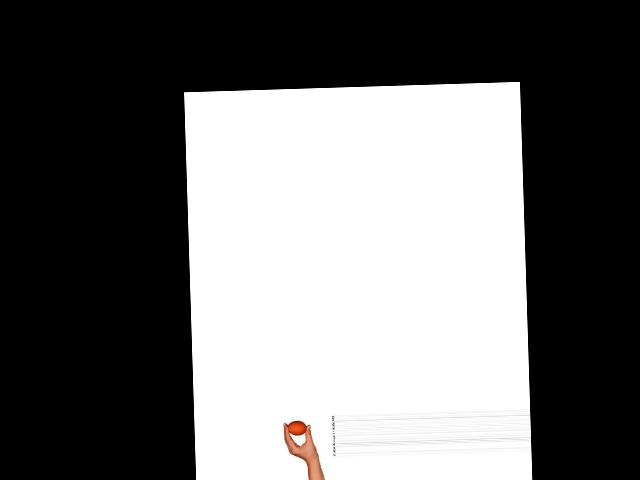egg: (286, 420, 307, 435)
